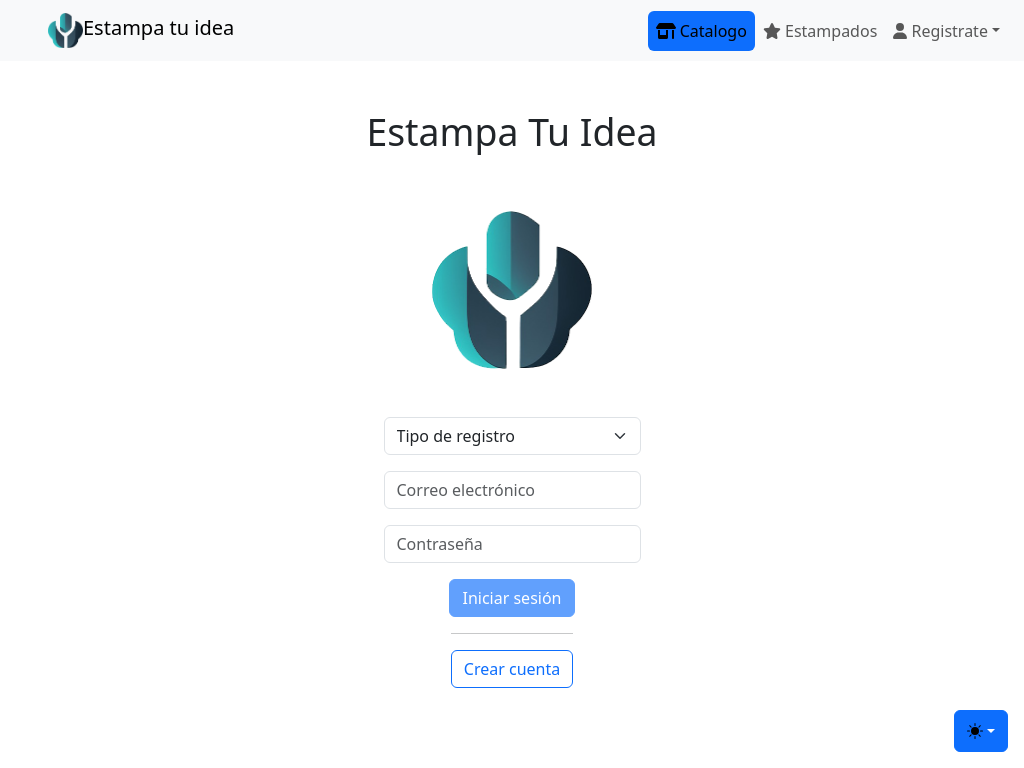
Test case: Pruebas unitarias › El correo debe ser menor a 45 caracteres
// Completa el formulario de login
In the field with test id "Correo": (512, 490) [384,471,640,509], type "1234567890123456789012345678901234@example.com"
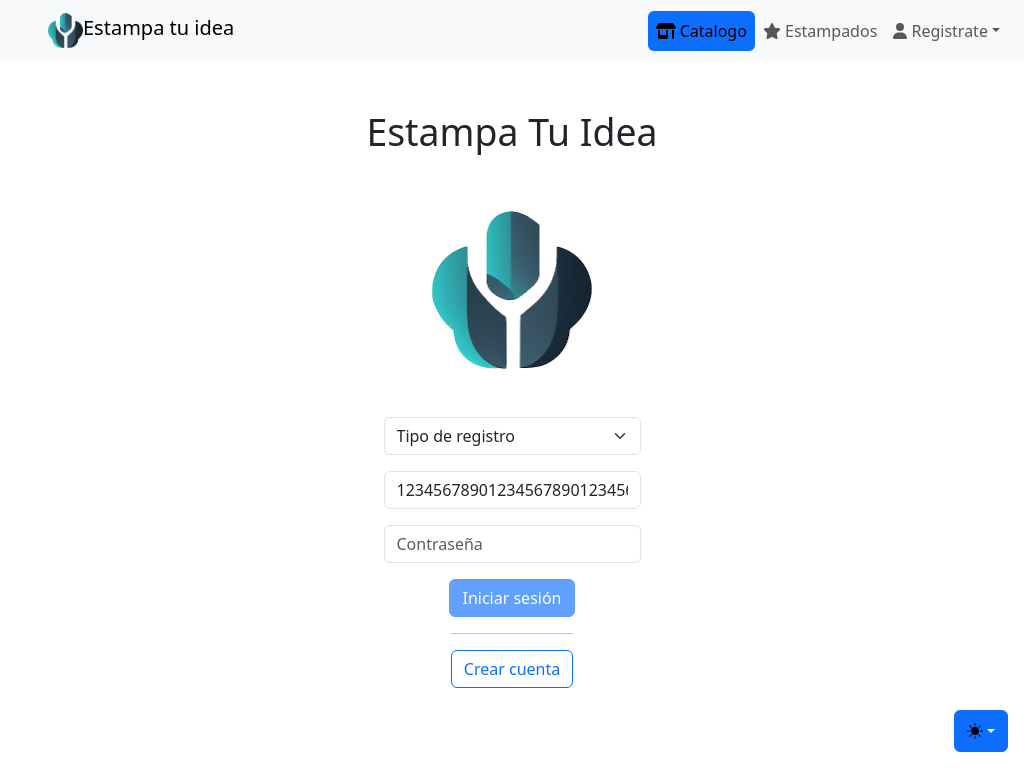
In the password field with test id "Contraseña": (512, 544) [384,525,640,563], type "123456"
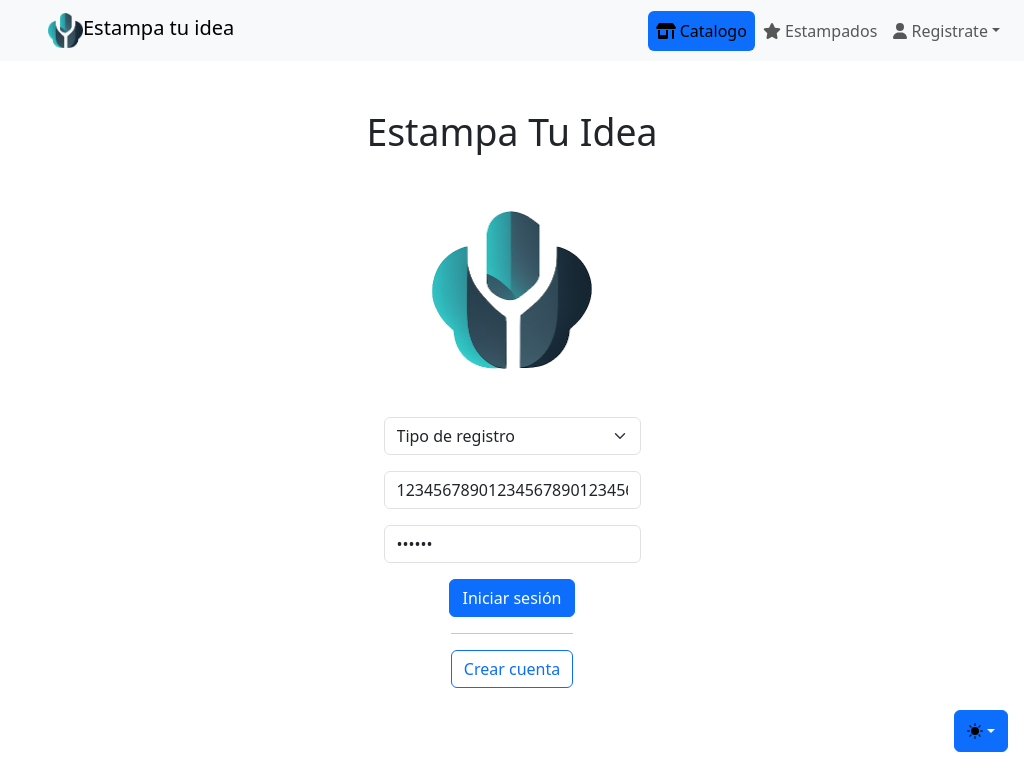
Select "Cliente" in the dropdown with test id "Tipo de registro": (512, 436) [384,417,640,455]
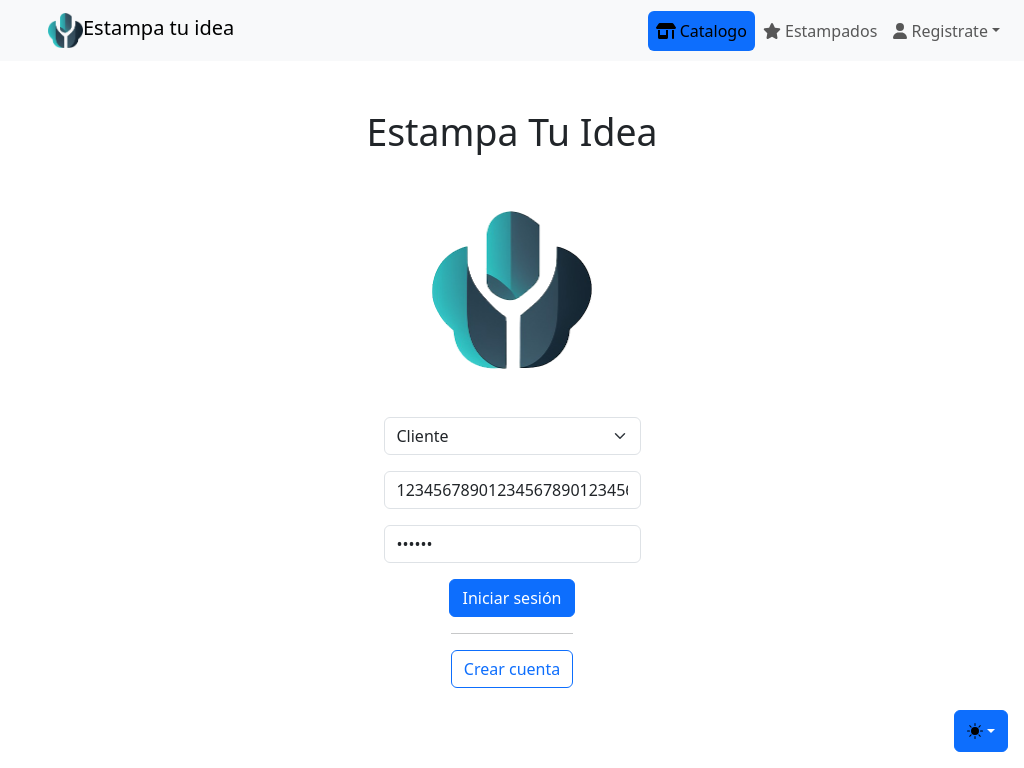
// Envía el formulario
Click the button "Iniciar sesión": click(512, 598) [450,579,574,617]
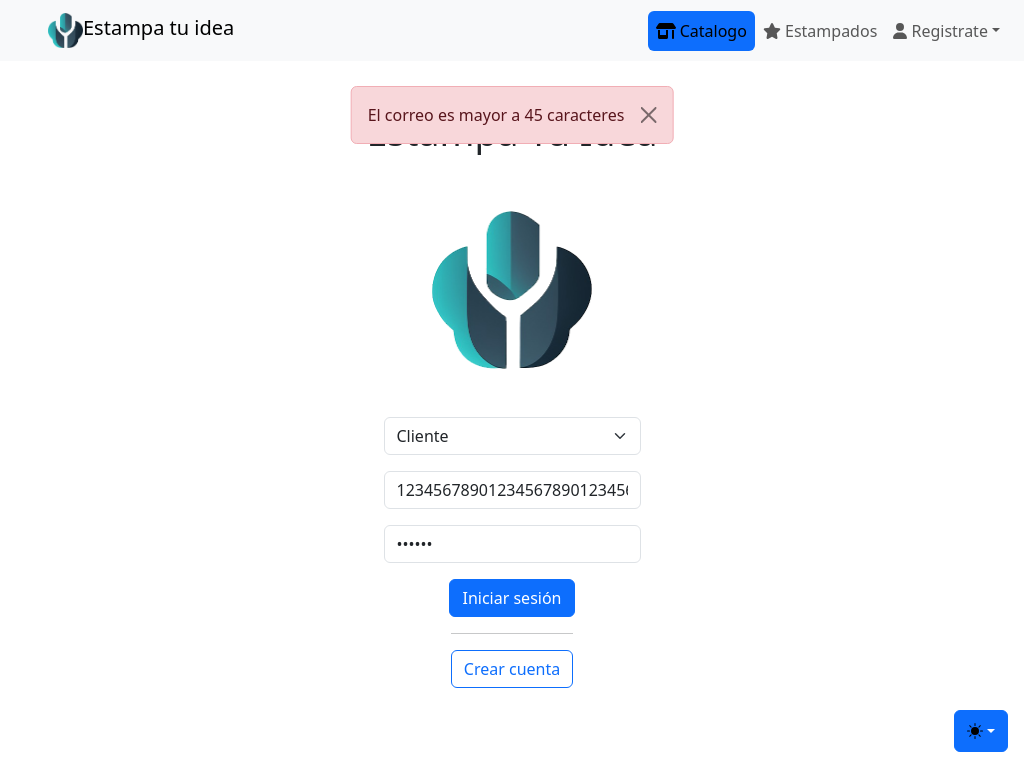
Check: the text "El correo es mayor a 45 caracteres" is shown, box [351,86,673,144]
